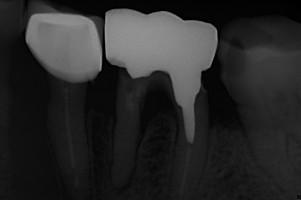Endo-Periodontal Lesion: (136, 81, 179, 152)
